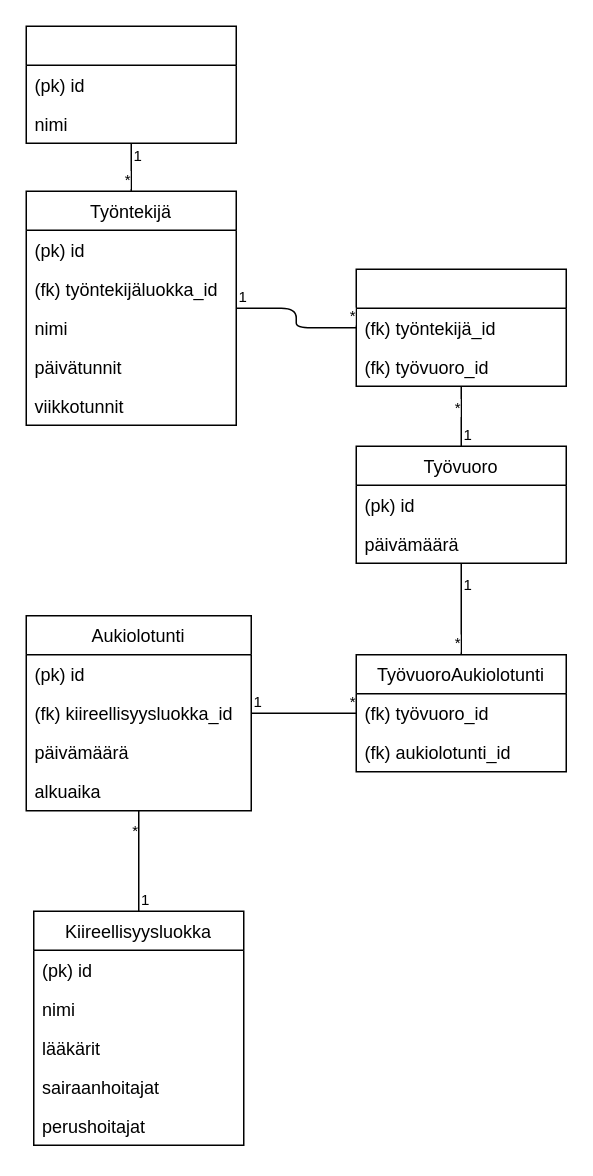
This 593x1176 diagram has some shape labels left out. Here are the shapes that lost their labels. From the top down, the box of each, then its label:
(25, 25, 236, 143): Työntekijäluokka
(355, 268, 566, 386): TyöntekijäTyövuoro
